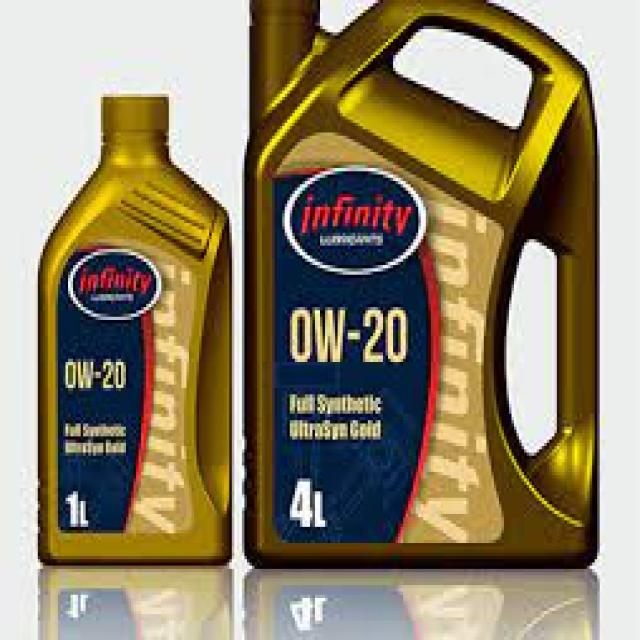motor_oil: (242, 6, 611, 581)
